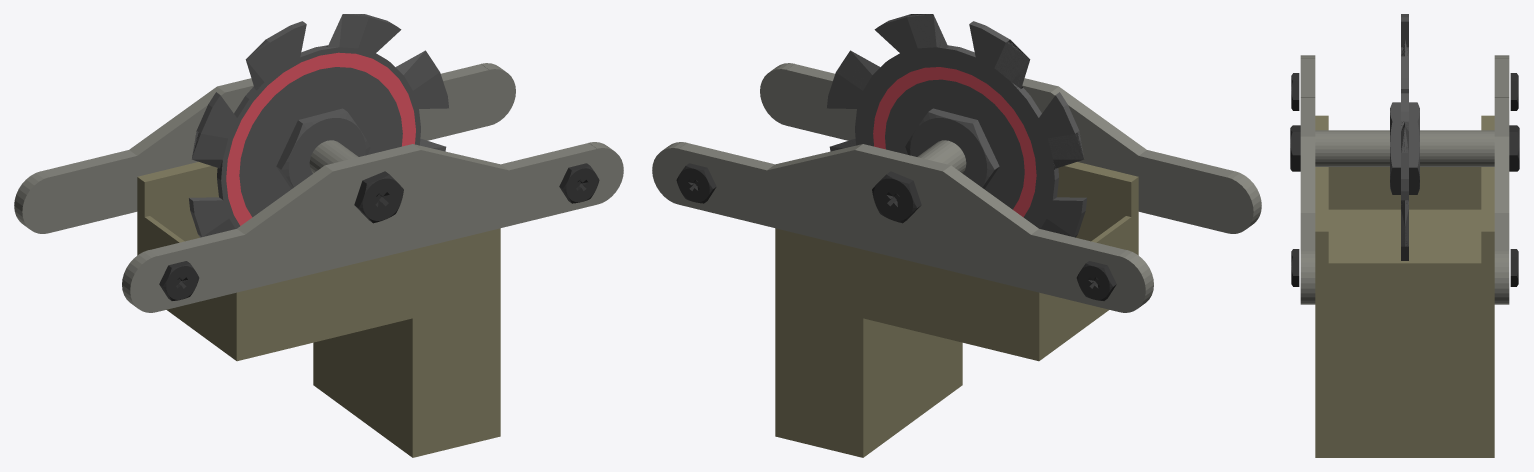
The model's file is Saw.fbx.
The picture shows the model from 3 angles, left to right: view 1: azimuth 30°, elevation 25°; view 2: azimuth 150°, elevation 25°; view 3: azimuth 270°, elevation 25°; orthographic projection. The views are drawn at different scales.
Visible parts, largest first — view 1: Saw.004, Blade.003; view 2: Saw.004, Blade.003; view 3: Saw.004, Blade.003.
Boxes of the visible parts, x1,y1,x2,y2 form: Saw.004: (14,63,623,457); Blade.003: (189,14,448,237); Saw.004: (652,63,1261,457); Blade.003: (827,14,1086,237); Saw.004: (1290,55,1519,457); Blade.003: (1390,14,1419,260).
Bounding box in the file's own units: 3.31 × 5.92 × 7.4.
